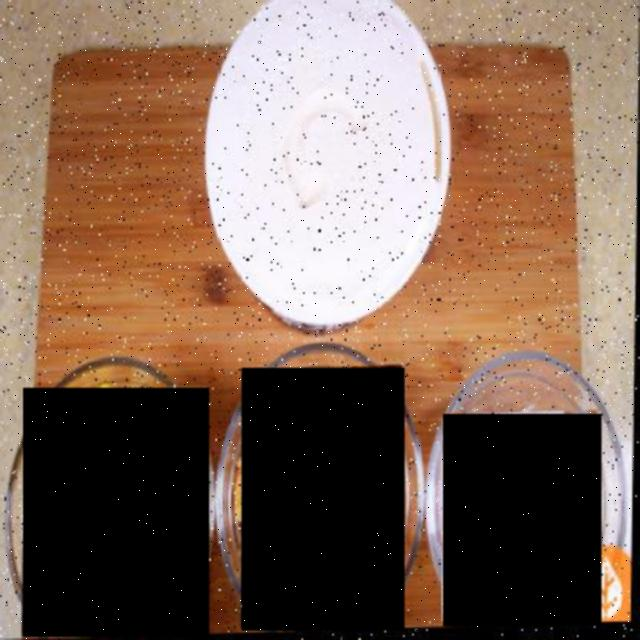Corn: (23, 388, 209, 638)
Cornflakes: (242, 368, 404, 630)
Ice: (443, 414, 602, 626)
